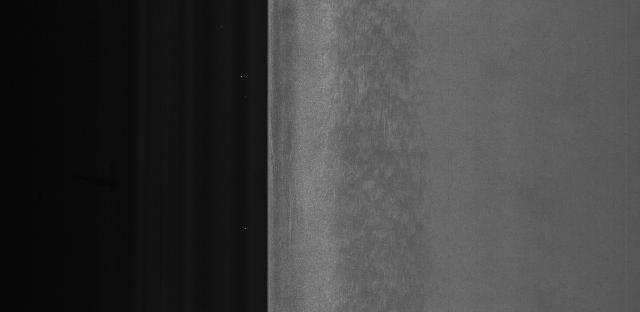silk_spot: (331, 13, 440, 288)
